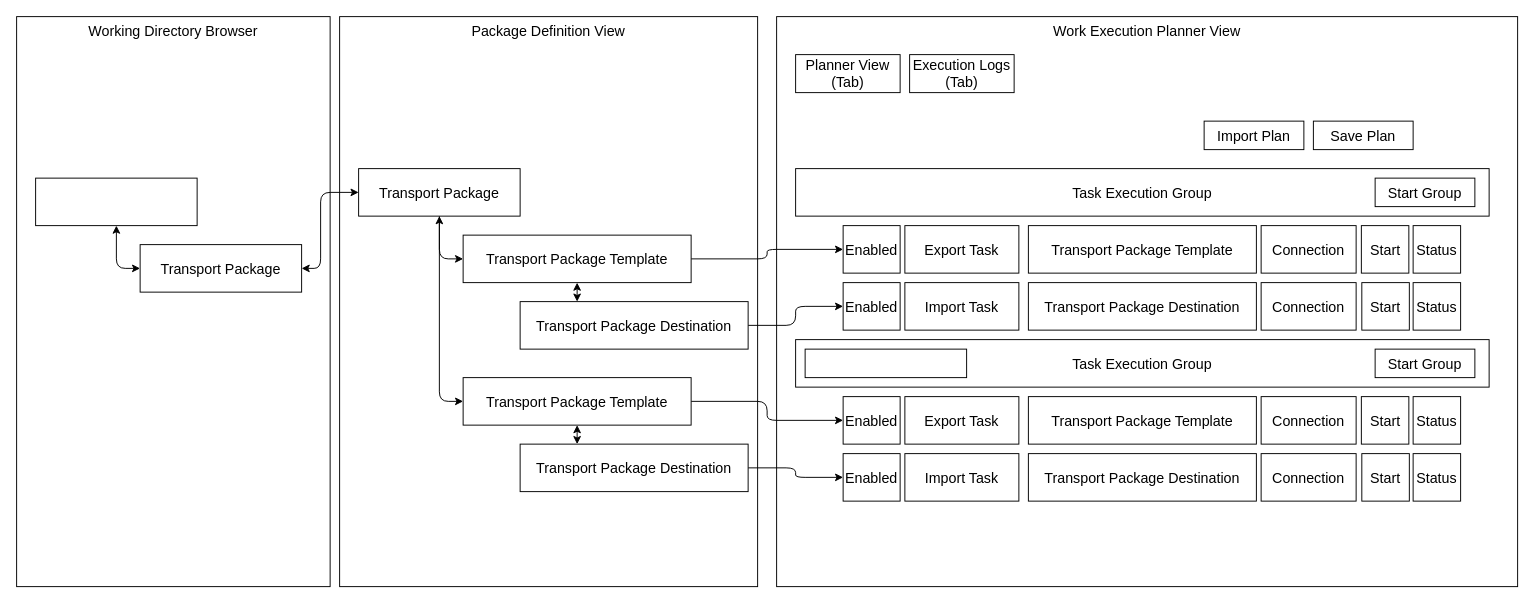
This 1534x603 diagram has some shape labels left out. Each missing label, with the centre of its shape:
Autostart After Group 1: (x=885, y=363)
Directory: (x=116, y=201)
